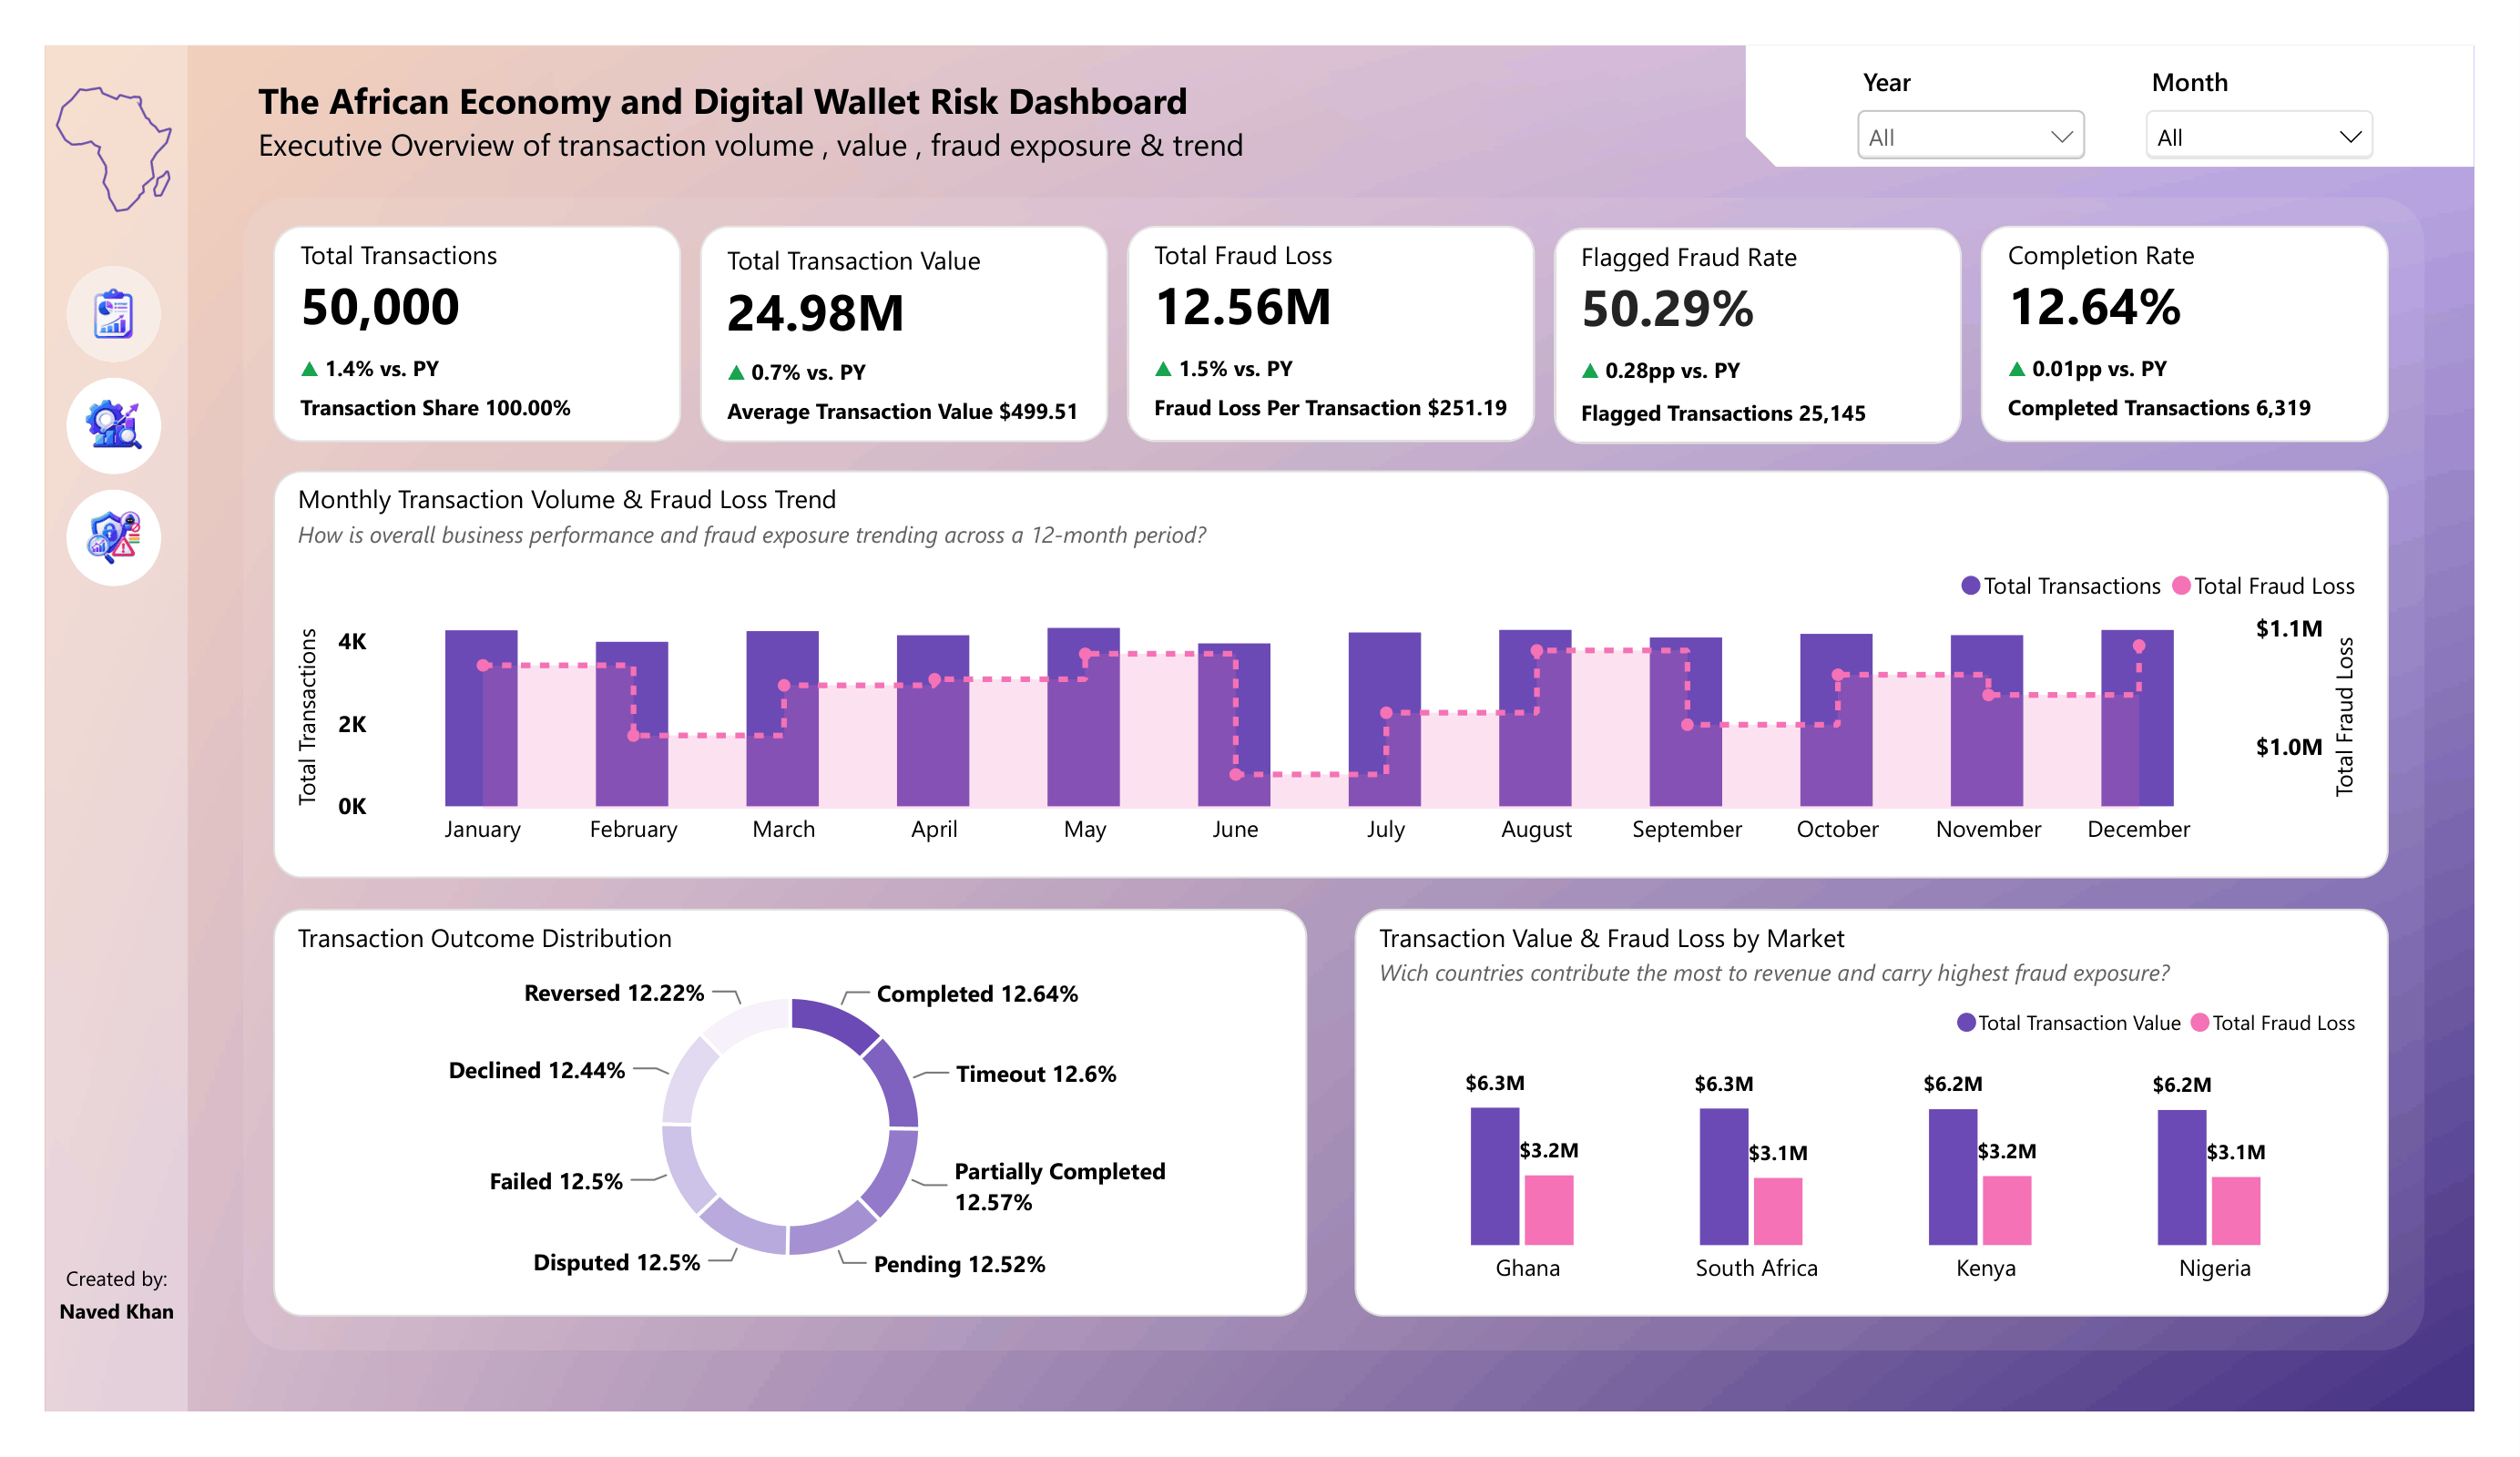

This screenshot's page, from the dashboard's own definition file:
{"tool":"powerbi","page":{"name":"Executive Summary","canvas":[1280,720],"ordinal":0},"visuals":[{"type":"shape","box":[104,80,1150,608],"z":0},{"type":"lineClusteredColumnComboChart","title":"Monthly Transaction Volume & Fraud Loss Trend","fields":{"Category":["DateTable.Month"],"Y":["CountNonNull(merged_table.transaction_id)"],"Y2":["Sum(merged_table.fraud_loss_usd)"]},"box":[120,224,1115,215],"z":1000},{"type":"clusteredColumnChart","title":"Transaction Value & Fraud Loss by Market","fields":{"Category":["merged_table.country"],"Y":["Sum(merged_table.amount_usd)","Sum(merged_table.fraud_loss_usd)"]},"box":[690,455,545,215],"z":2000},{"type":"cardVisual","fields":{"Data":["merged_table.Total Transactions Label"]},"box":[120,95,215,114],"z":3000},{"type":"cardVisual","fields":{"Data":["merged_table.Total Transaction Value"]},"box":[345,95,215,114],"z":4000},{"type":"cardVisual","fields":{"Data":["merged_table.Fraud Rate"]},"box":[795,96,215,114],"z":5000},{"type":"cardVisual","fields":{"Data":["merged_table.Total Fraud Loss"]},"box":[570,96,215,114],"z":6000},{"type":"cardVisual","fields":{"Data":["merged_table.Completion Rate"]},"box":[1020,95,215,114],"z":7000},{"type":"donutChart","title":"Transaction Outcome Distribution","fields":{"Category":["merged_table.transaction_outcome"],"Y":["CountNonNull(merged_table.transaction_outcome)"]},"box":[120,455,545,215],"z":8000},{"type":"shape","box":[0,0,75,720],"z":9000},{"type":"pageNavigator","box":[11,116,50,170],"z":10000},{"type":"image","box":[12,125,48,34],"z":11000},{"type":"image","box":[12,183,48,34],"z":12000},{"type":"image","box":[11,242,48,34],"z":13000},{"type":"image","box":[4,15,64,80],"z":14000},{"type":"shape","box":[896,0,384,64],"z":15000},{"type":"slicer","fields":{"Values":["DateTable.Year"]},"box":[950,10,130,50],"z":16000},{"type":"slicer","fields":{"Values":["DateTable.Month"]},"box":[1102,10,130,50],"z":17000},{"type":"textbox","box":[112,16,528,64],"z":18000},{"type":"textbox","box":[0,640,75,45],"z":19000}]}

Visuals, with their boxes on the page's 1280x720 design canvas (x1, y1, x2, y2). These are canvas units, not pixel positions in the 2520x1457 screenshot, which may show the page scaled, cropped or inside an application window:
shape: [104, 80, 1254, 688]
"Monthly Transaction Volume & Fraud Loss Trend" lineClusteredColumnComboChart: [120, 224, 1235, 439]
"Transaction Value & Fraud Loss by Market" clusteredColumnChart: [690, 455, 1235, 670]
cardVisual - merged_table.Total Transactions Label: [120, 95, 335, 209]
cardVisual - merged_table.Total Transaction Value: [345, 95, 560, 209]
cardVisual - merged_table.Fraud Rate: [795, 96, 1010, 210]
cardVisual - merged_table.Total Fraud Loss: [570, 96, 785, 210]
cardVisual - merged_table.Completion Rate: [1020, 95, 1235, 209]
"Transaction Outcome Distribution" donutChart: [120, 455, 665, 670]
shape: [0, 0, 75, 720]
pageNavigator: [11, 116, 61, 286]
image: [12, 125, 60, 159]
image: [12, 183, 60, 217]
image: [11, 242, 59, 276]
image: [4, 15, 68, 95]
shape: [896, 0, 1280, 64]
slicer - DateTable.Year: [950, 10, 1080, 60]
slicer - DateTable.Month: [1102, 10, 1232, 60]
textbox: [112, 16, 640, 80]
textbox: [0, 640, 75, 685]
